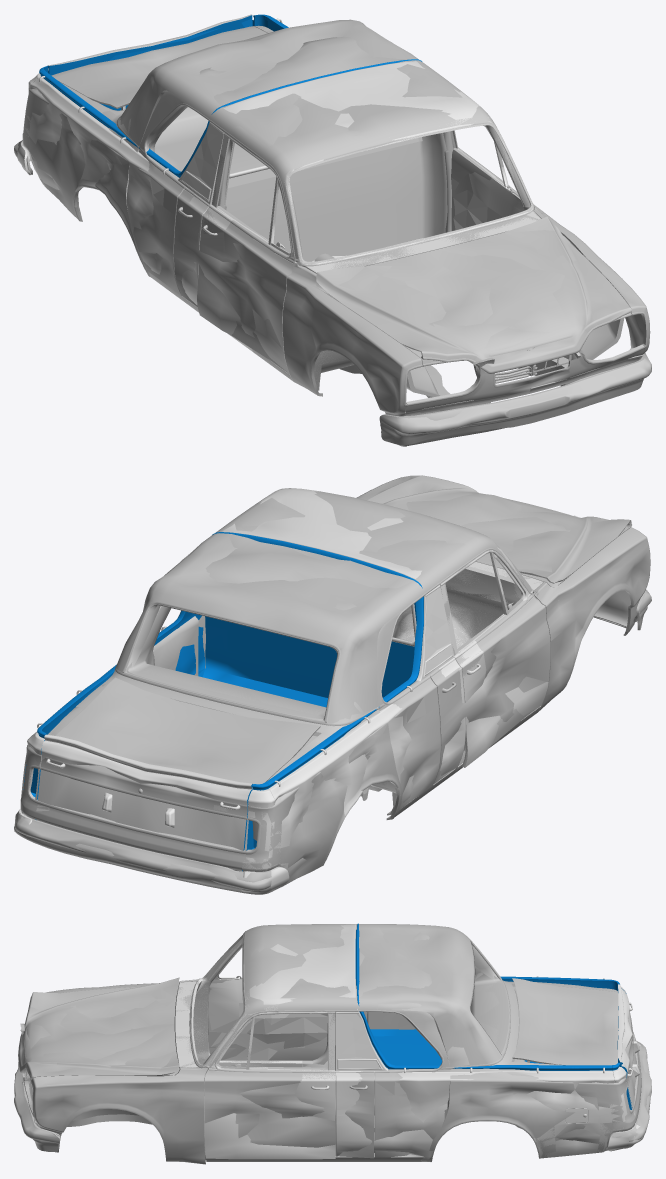
The model's file is miramar_beater.dae.
3 views of the same model, one above another, from view 1: azimuth 30°, elevation 25°; view 2: azimuth 150°, elevation 25°; view 3: azimuth 270°, elevation 25° (orthographic). The views are drawn at different scales.
Visible parts, largest first — view 1: miramar_beater_ute_body, miramar_beater_body, miramar_beater_coupe_body, miramar_beater_hood, miramar_beater_hood_facelift, miramar_beater_fender_R, miramar_beater_coupe_door_R, miramar_beater_bumper_facelift_F, miramar_beater_trunk, miramar_beater_ute_door_FR, miramar_beater_valance_F, miramar_beater_door_FR (+7 smaller); view 2: miramar_beater_body, miramar_beater_ute_body, miramar_beater_coupe_body, miramar_beater_trunk, miramar_beater_ute_tailgate, miramar_beater_fender_R, miramar_beater_hood, miramar_beater_coupe_door_R, miramar_beater_hood_facelift, miramar_beater_ute_door_FR, miramar_beater_bumper_facelift_R, miramar_beater_bumper_R (+2 smaller); view 3: miramar_beater_body, miramar_beater_ute_body, miramar_beater_coupe_body, miramar_beater_fender_L, miramar_beater_trunk, miramar_beater_hood, miramar_beater_door_FL, miramar_beater_hood_facelift, miramar_beater_ute_door_FL, miramar_beater_coupe_door_L, miramar_beater_ute_door_FR, miramar_beater_door_FR (+6 smaller).
Part boxes in pixels (x1,y1,x2,y2): miramar_beater_ute_body: [22, 14, 623, 397]; miramar_beater_body: [23, 19, 623, 396]; miramar_beater_coupe_body: [22, 25, 623, 397]; miramar_beater_hood: [316, 230, 631, 376]; miramar_beater_hood_facelift: [316, 216, 631, 373]; miramar_beater_fender_R: [282, 262, 422, 446]; miramar_beater_coupe_door_R: [173, 187, 296, 373]; miramar_beater_bumper_facelift_F: [379, 353, 651, 435]; miramar_beater_trunk: [51, 26, 267, 110]; miramar_beater_ute_door_FR: [197, 132, 295, 373]; miramar_beater_valance_F: [405, 344, 644, 445]; miramar_beater_door_FR: [201, 134, 296, 373]; miramar_beater_body: [20, 491, 543, 886]; miramar_beater_ute_body: [21, 488, 542, 887]; miramar_beater_coupe_body: [20, 488, 543, 871]; miramar_beater_trunk: [40, 677, 320, 819]; miramar_beater_ute_tailgate: [36, 734, 252, 871]; miramar_beater_fender_R: [534, 527, 650, 711]; miramar_beater_hood: [367, 484, 631, 583]; miramar_beater_coupe_door_R: [429, 595, 550, 783]; miramar_beater_hood_facelift: [373, 475, 630, 587]; miramar_beater_ute_door_FR: [440, 550, 548, 767]; miramar_beater_bumper_facelift_R: [14, 811, 271, 890]; miramar_beater_bumper_R: [14, 810, 279, 894]; miramar_beater_body: [140, 924, 641, 1161]; miramar_beater_ute_body: [67, 923, 632, 1161]; miramar_beater_coupe_body: [68, 924, 641, 1161]; miramar_beater_fender_L: [31, 1067, 208, 1164]; miramar_beater_trunk: [512, 978, 633, 1085]; miramar_beater_hood: [23, 977, 179, 1081]; miramar_beater_door_FL: [204, 1011, 335, 1147]; miramar_beater_hood_facelift: [18, 981, 179, 1079]; miramar_beater_ute_door_FL: [204, 1011, 335, 1159]; miramar_beater_coupe_door_L: [206, 1068, 373, 1158]; miramar_beater_ute_door_FR: [208, 947, 288, 1060]; miramar_beater_door_FR: [208, 946, 327, 1060].
Size of the model in its own units: 1.67 by 4.32 by 1.22.
